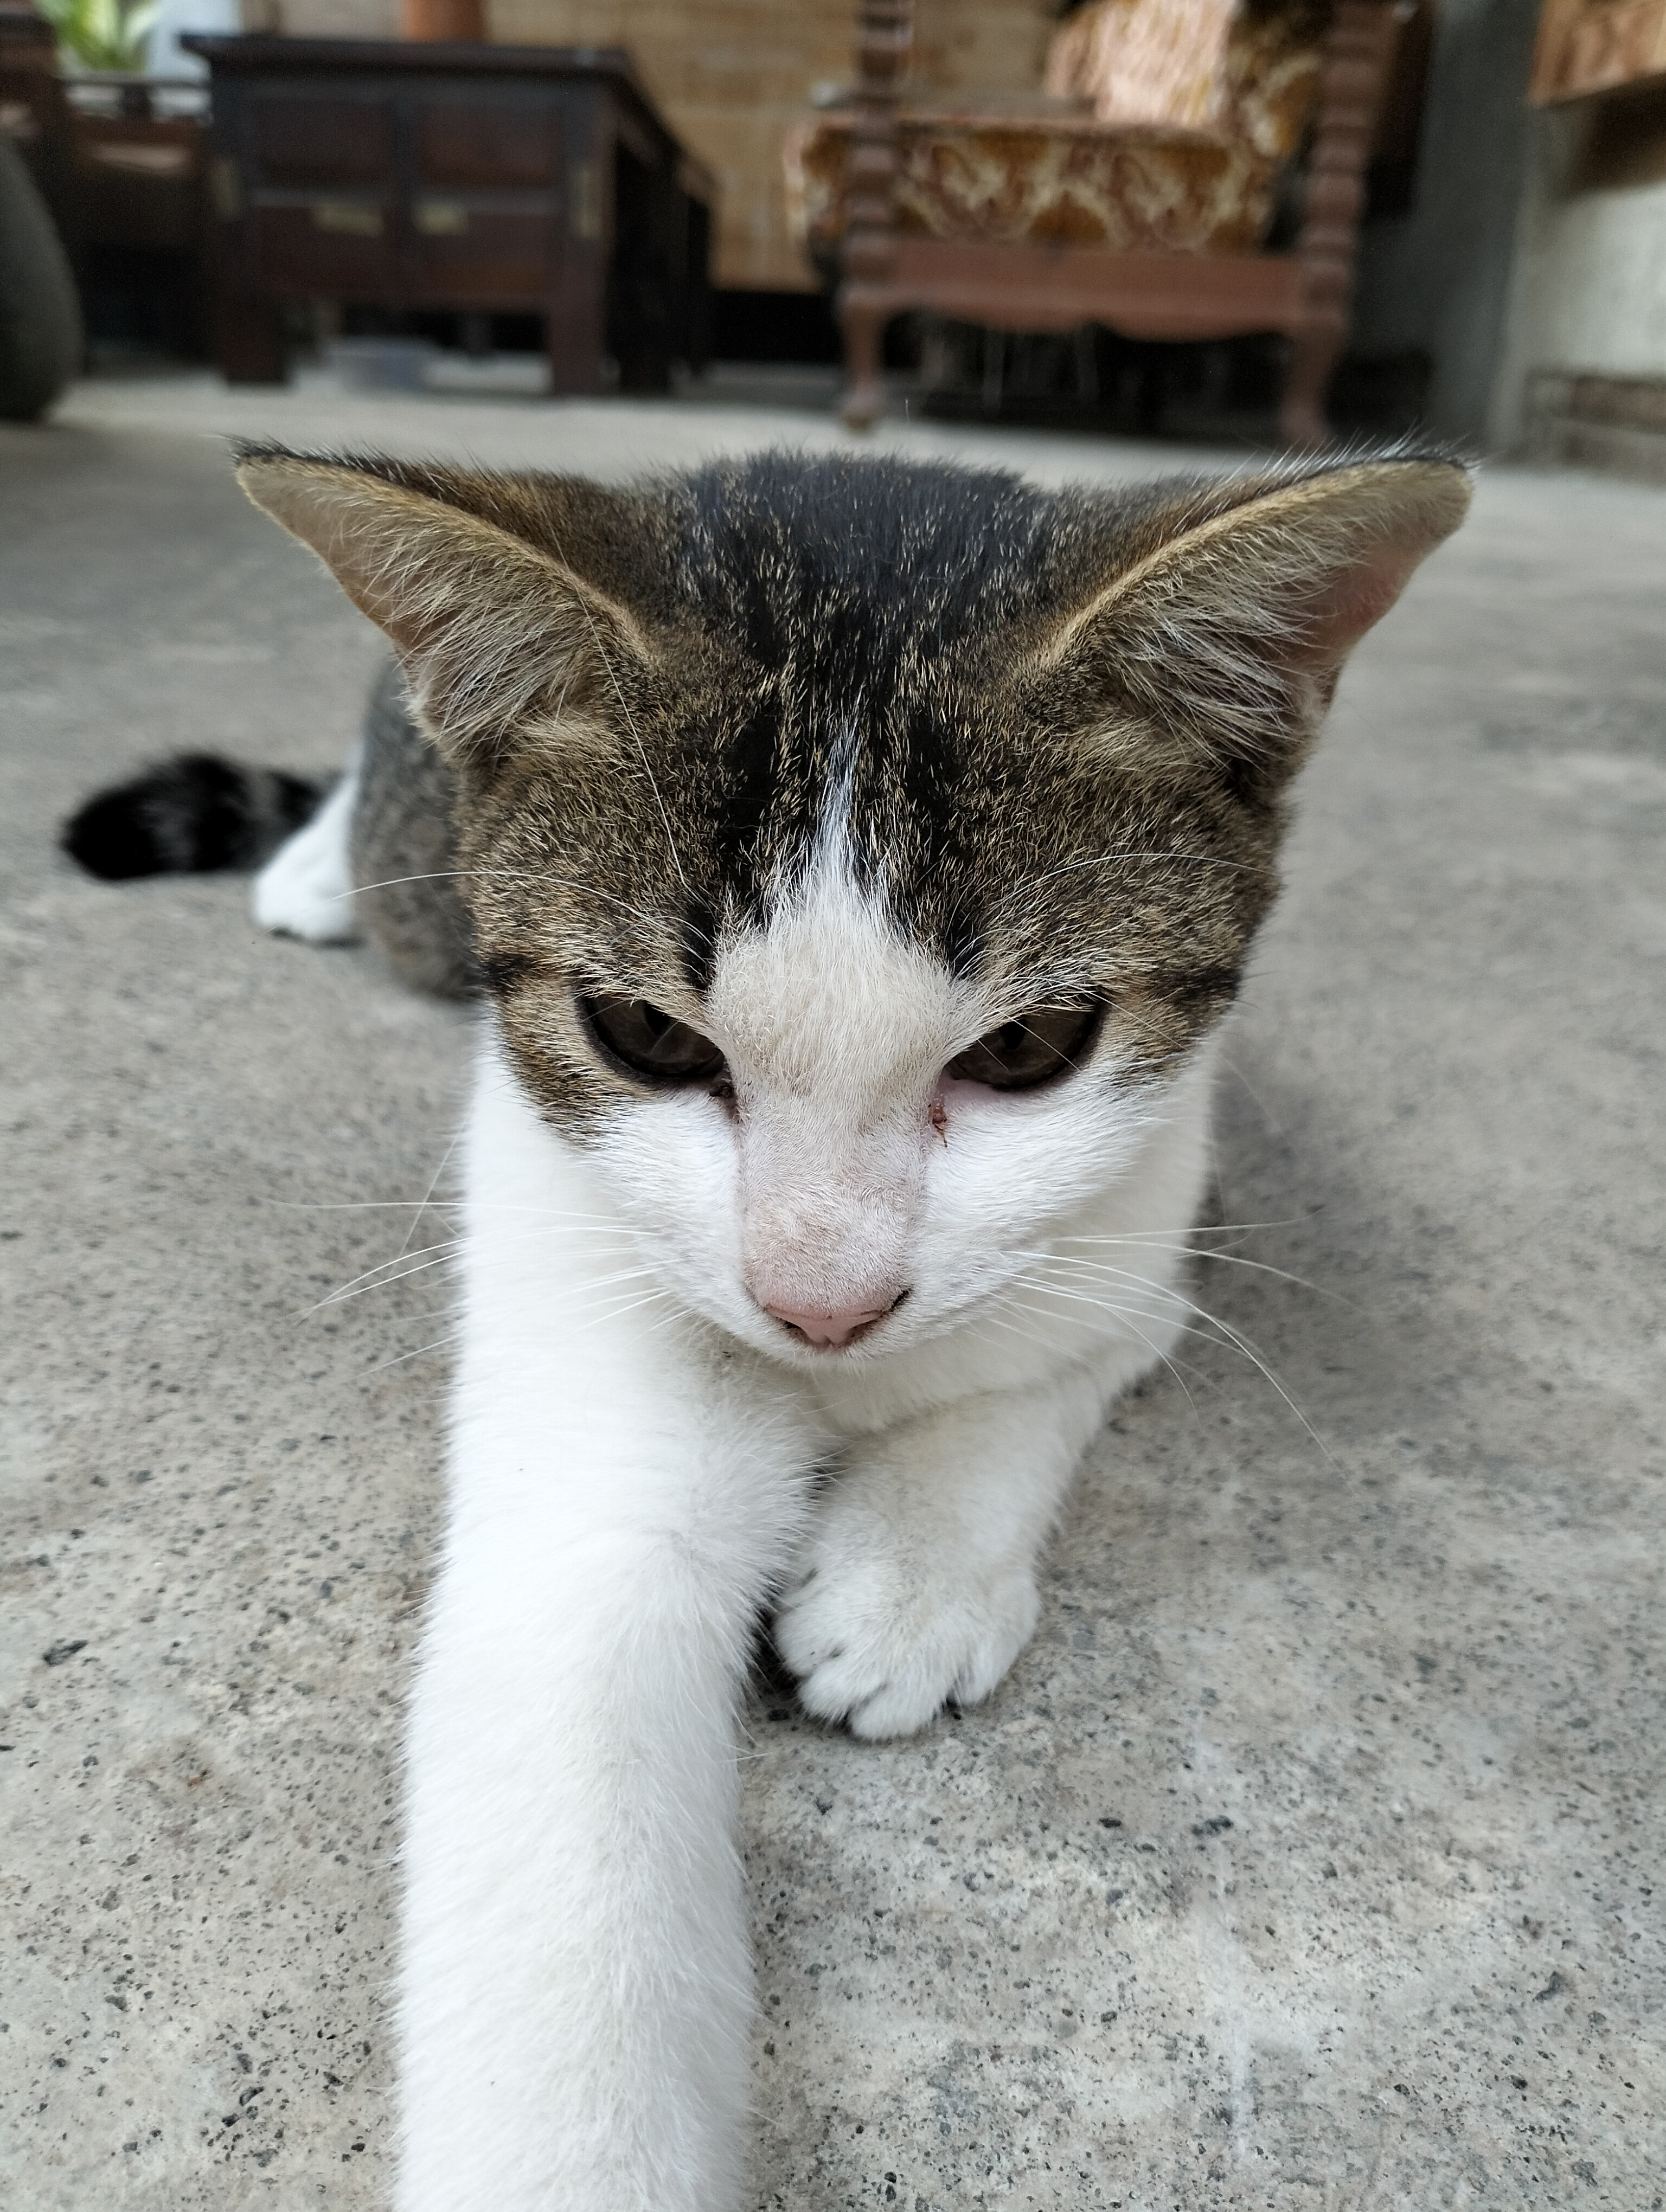miki: (205, 362, 1598, 1436)
